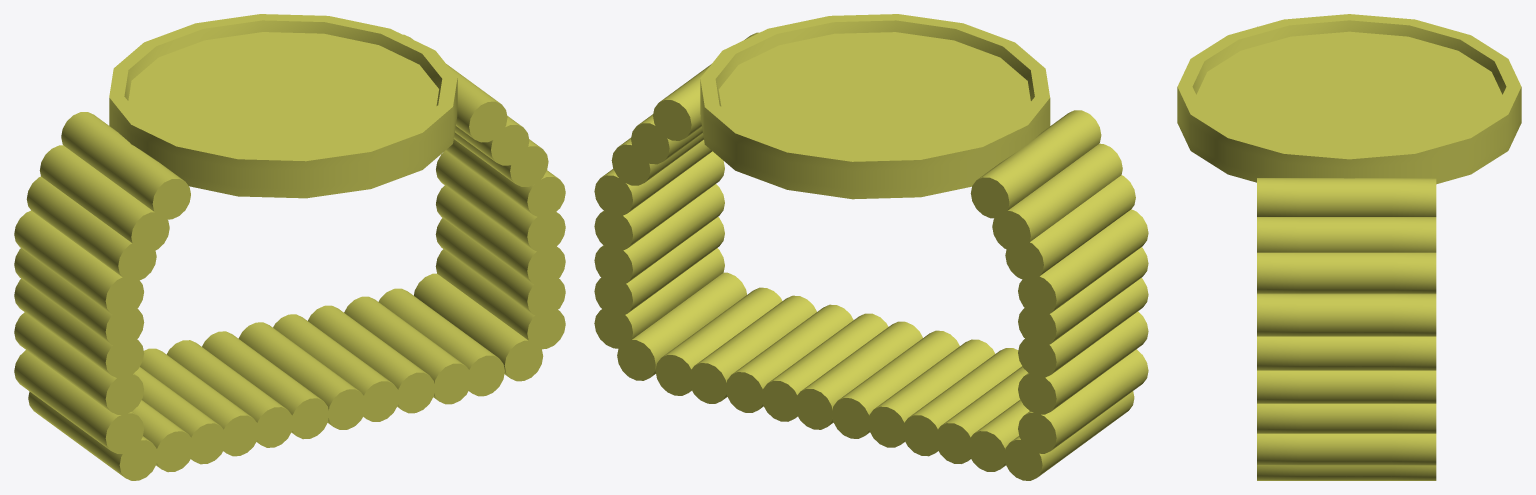
File: Watch.fbx
3 views of the same model, side by side, from view 1: azimuth 30°, elevation 25°; view 2: azimuth 150°, elevation 25°; view 3: azimuth 270°, elevation 25° (orthographic). The views are drawn at different scales.
Visible parts, largest first — view 1: Cylinder; view 2: Cylinder; view 3: Cylinder.
Boxes of the visible parts, x1=… form: Cylinder: x1=14, y1=14, x2=565, y2=480; Cylinder: x1=594, y1=14, x2=1148, y2=480; Cylinder: x1=1177, y1=14, x2=1521, y2=480.
Bounding box in the file's own units: 151 × 97.94 × 100.
